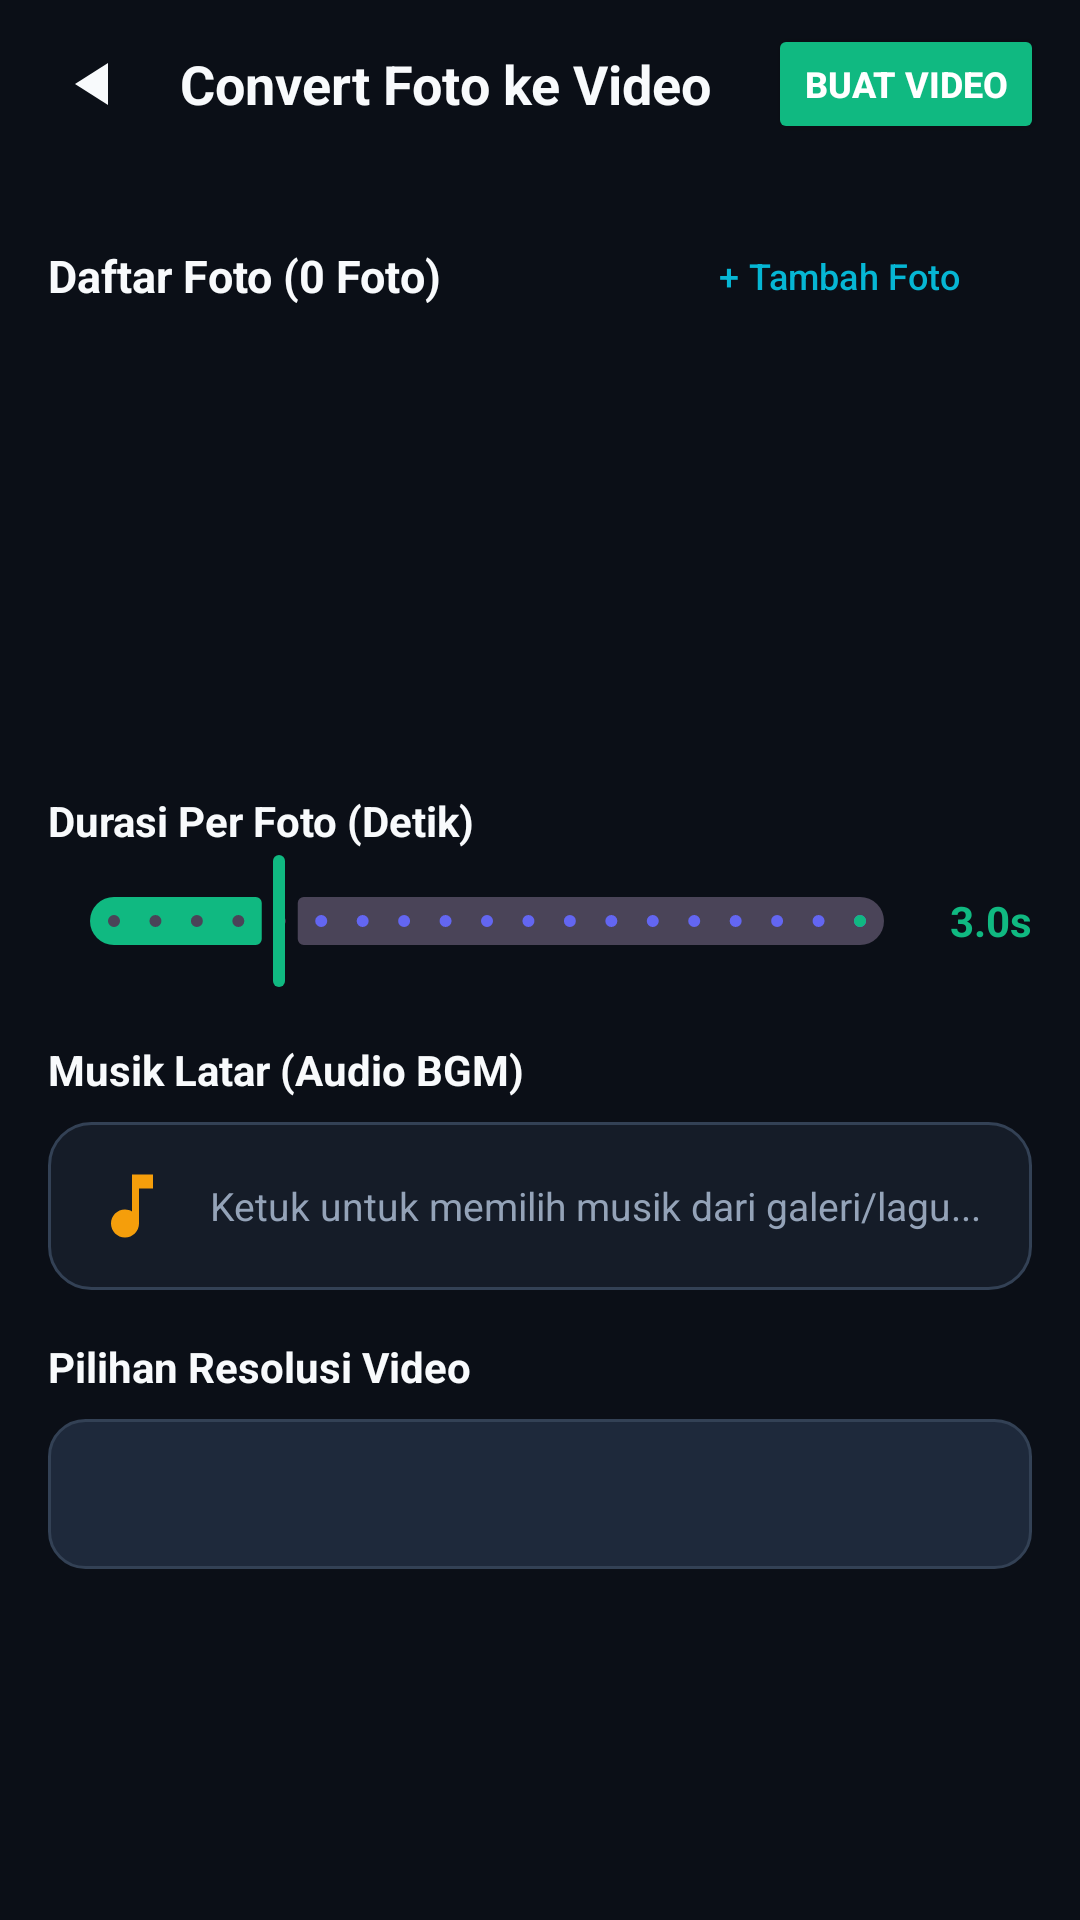

Where to tap for icons on this 1080w x 1920h app screen, as point (x, y):
music: point (132, 1206)
